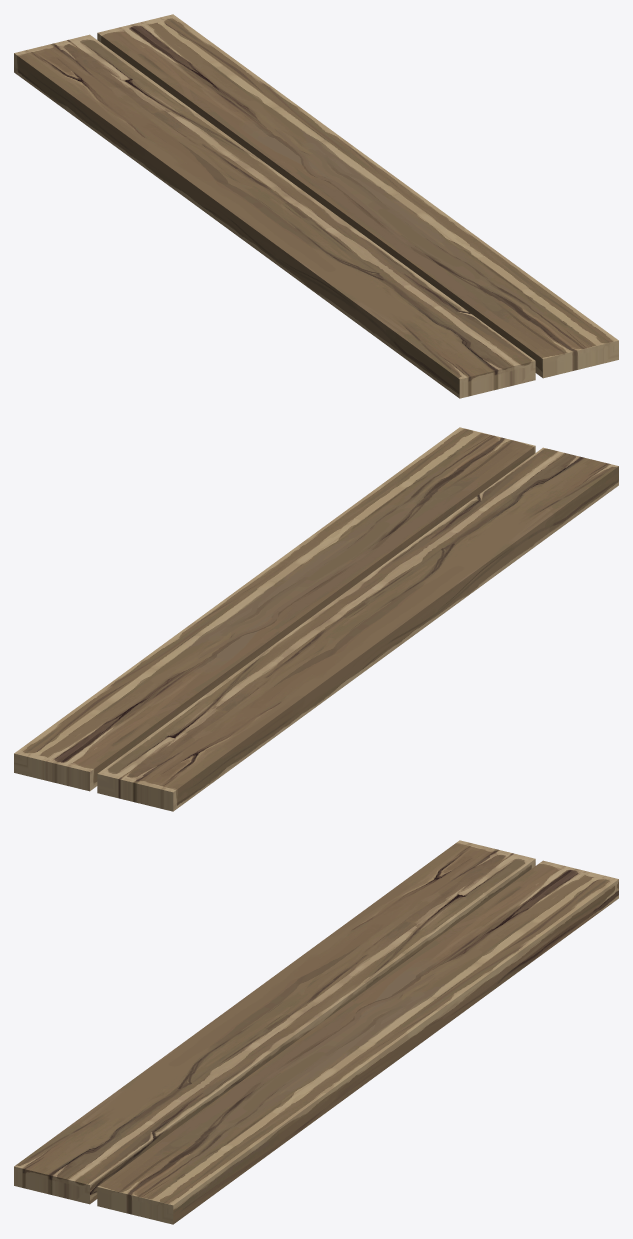
Rendered from wood_planks.fbx.
3 renders of one model, top to bottom at view 1: azimuth 30°, elevation 25°; view 2: azimuth 150°, elevation 25°; view 3: azimuth 330°, elevation 25°, orthographic.
Parts seen in each view (by area): view 1: boards_2.1, boards_2.2; view 2: boards_2.1, boards_2.2; view 3: boards_2.2, boards_2.1.
Boxes of the visible parts, <box> form: boards_2.1: <box>14,34,535,398</box>; boards_2.2: <box>97,14,618,378</box>; boards_2.1: <box>97,447,618,811</box>; boards_2.2: <box>14,427,535,791</box>; boards_2.2: <box>97,860,618,1224</box>; boards_2.1: <box>14,840,535,1204</box>.
Size of the model in its own units: 0.861 by 0.0998 by 4.17.
